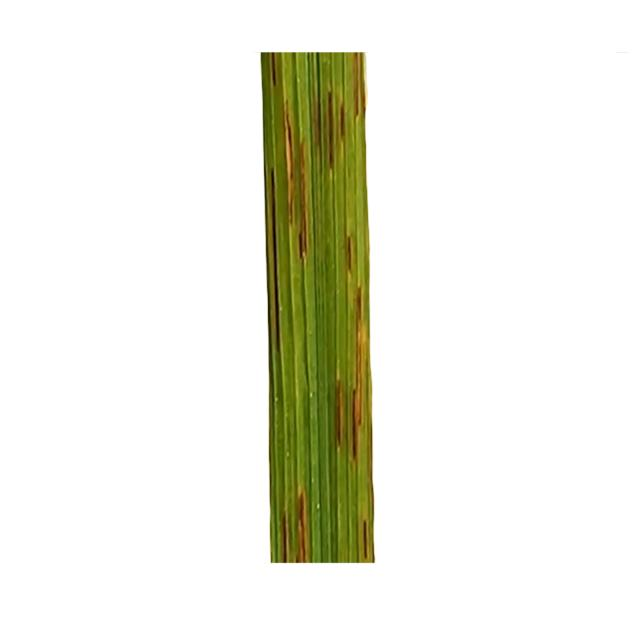Narrow brown: (209, 28, 412, 584)
